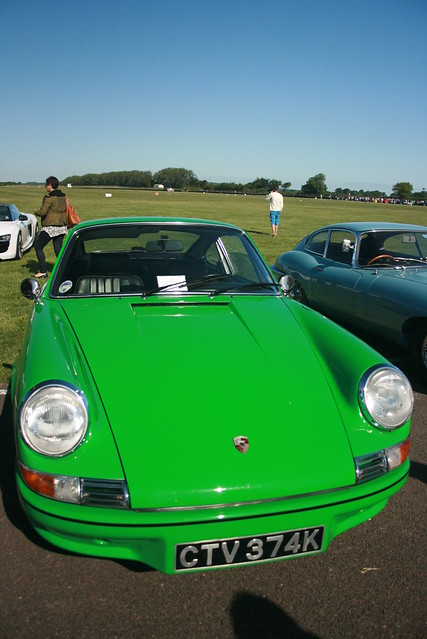person: (24, 173, 77, 276), (263, 186, 290, 240)
